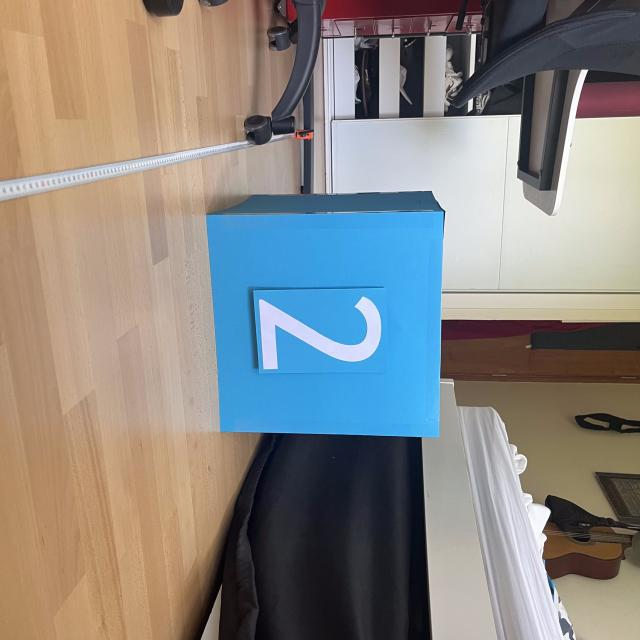box: (200, 187, 448, 440)
